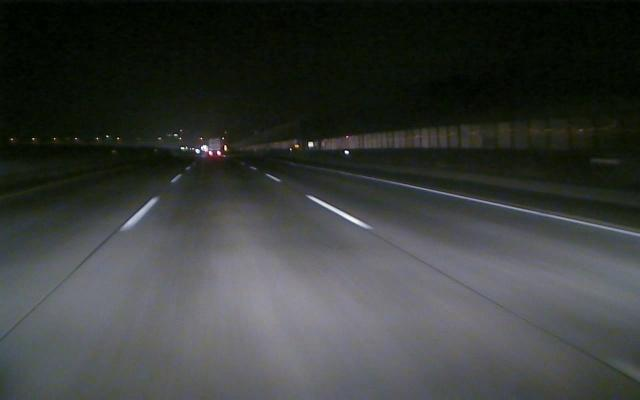lane: (349, 173, 638, 238), (263, 172, 377, 233), (120, 175, 180, 230)
